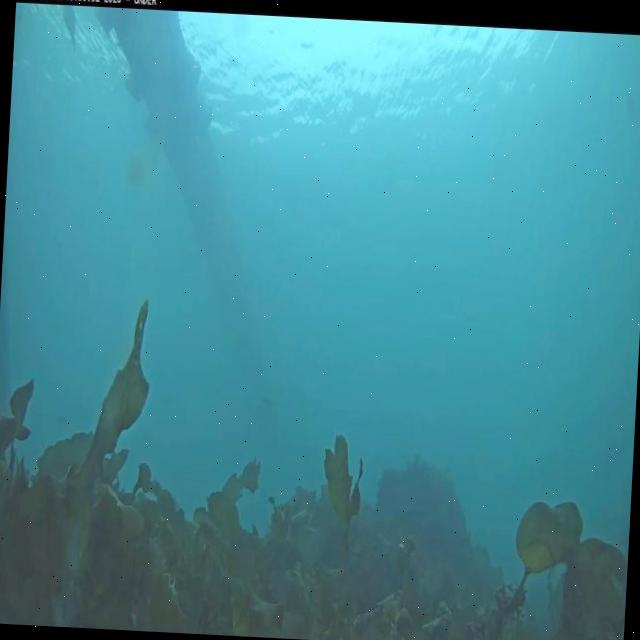fish: (59, 4, 84, 56)
